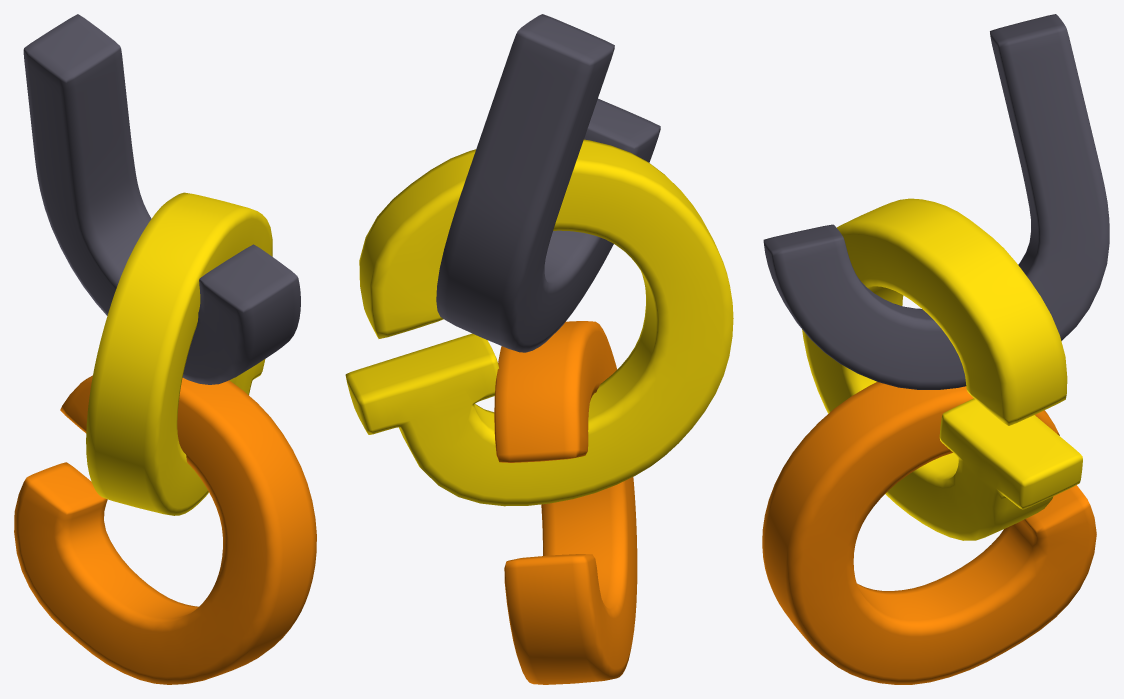
Rendered from JGC_high.fbx.
3 views of the same model, side by side, from view 1: azimuth 30°, elevation 25°; view 2: azimuth 150°, elevation 25°; view 3: azimuth 270°, elevation 25° (orthographic). The views are drawn at different scales.
Visible parts, largest first — view 1: polySurface3; view 2: polySurface3; view 3: polySurface3.
Part boxes in pixels (x1,y1,x2,y2): polySurface3: (14, 14, 316, 684); polySurface3: (345, 14, 733, 684); polySurface3: (762, 14, 1109, 684).
Size of the model in its own units: 174 by 392 by 194.
